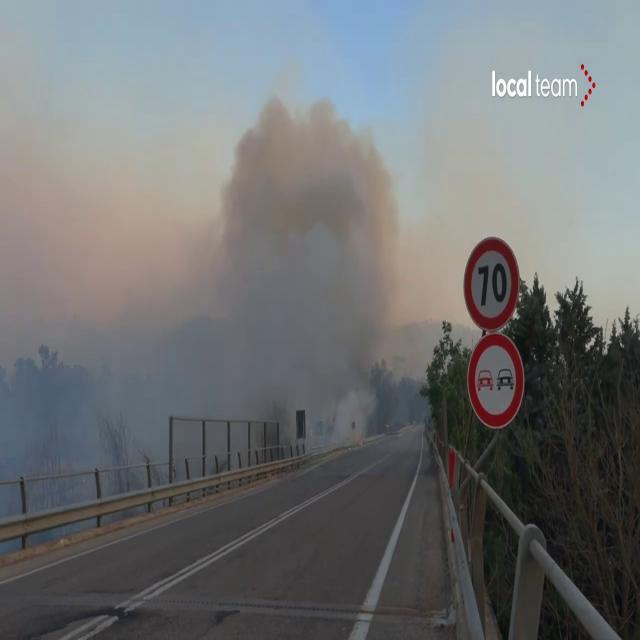Smoke: (1, 30, 426, 474)
